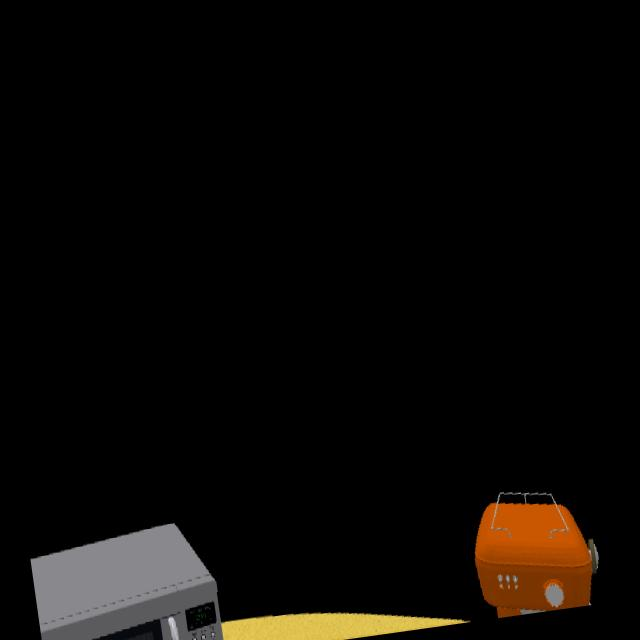countertop: (222, 613, 460, 640)
microwave: (31, 524, 224, 640)
